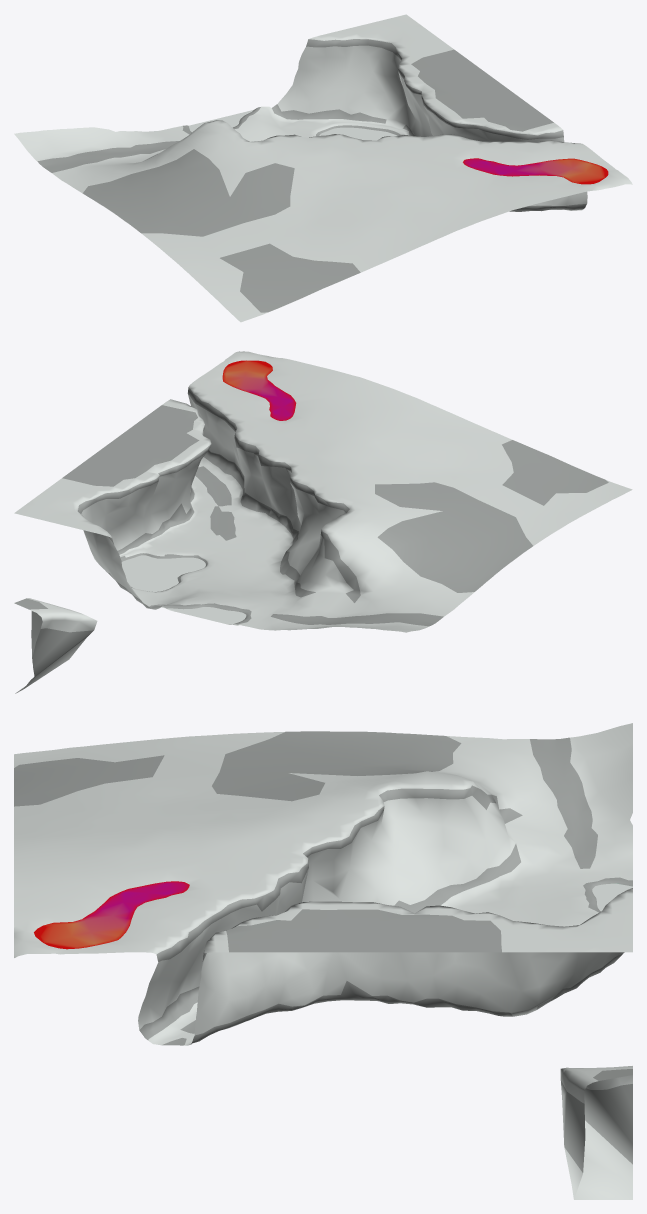
The picture shows the model from 3 angles, top to bottom: view 1: azimuth 30°, elevation 25°; view 2: azimuth 150°, elevation 25°; view 3: azimuth 270°, elevation 25°; orthographic projection. The views are drawn at different scales.
Visible parts, largest first — view 1: G:\FFXIV-MapTools\exports\r2f1\bg\ex1\01_roc_r2\fld\r2f1\bgp (×8); view 2: G:\FFXIV-MapTools\exports\r2f1\bg\ex1\01_roc_r2\fld\r2f1\bgp (×10); view 3: G:\FFXIV-MapTools\exports\r2f1\bg\ex1\01_roc_r2\fld\r2f1\bgp (×7).
Part boxes in pixels (bbox=[...]): G:\FFXIV-MapTools\exports\r2f1\bg\ex1\01_roc_r2\fld\r2f1\bgp (×8): bbox=[14, 14, 632, 322]; G:\FFXIV-MapTools\exports\r2f1\bg\ex1\01_roc_r2\fld\r2f1\bgp (×10): bbox=[14, 351, 632, 693]; G:\FFXIV-MapTools\exports\r2f1\bg\ex1\01_roc_r2\fld\r2f1\bgp (×7): bbox=[14, 723, 632, 1199].
Size of the model in its own units: 128 by 56.5 by 128.
